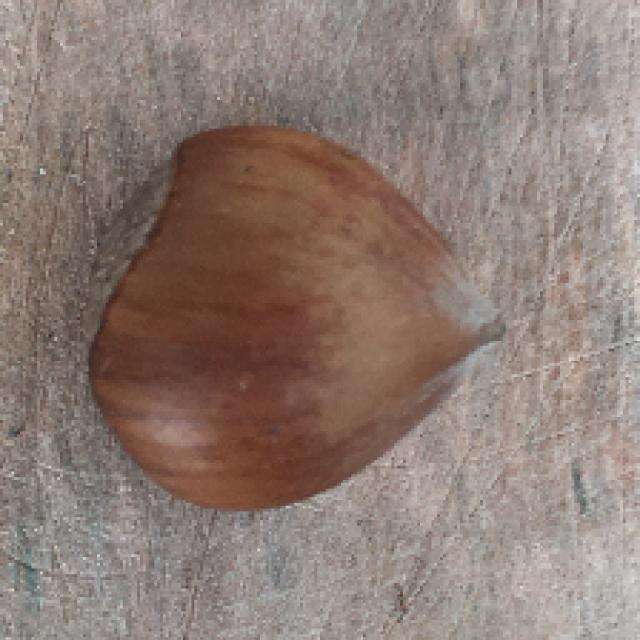damagedHazelnut: (81, 118, 507, 520)
